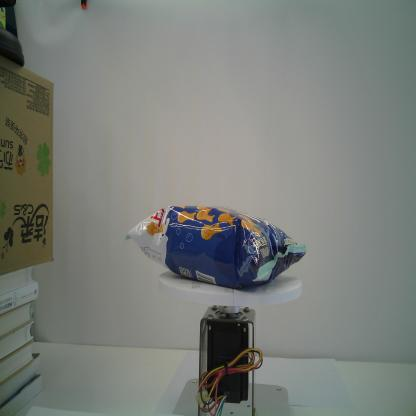Puffed Food: (124, 204, 306, 292)
